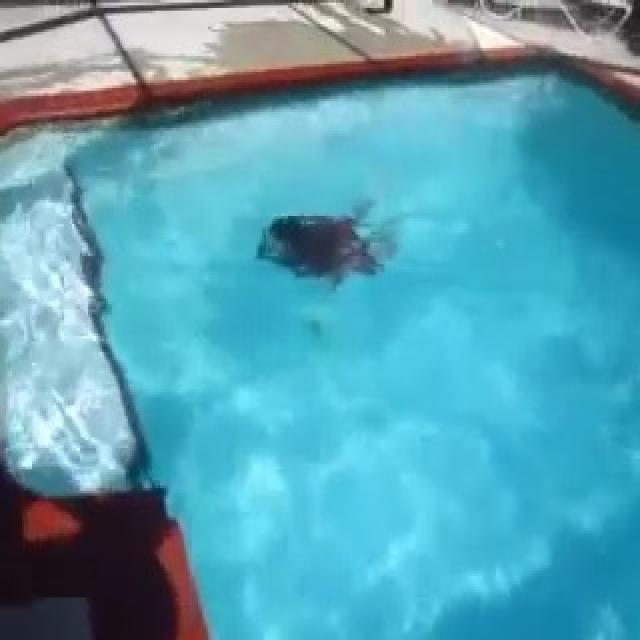drowning: (245, 175, 408, 317)
